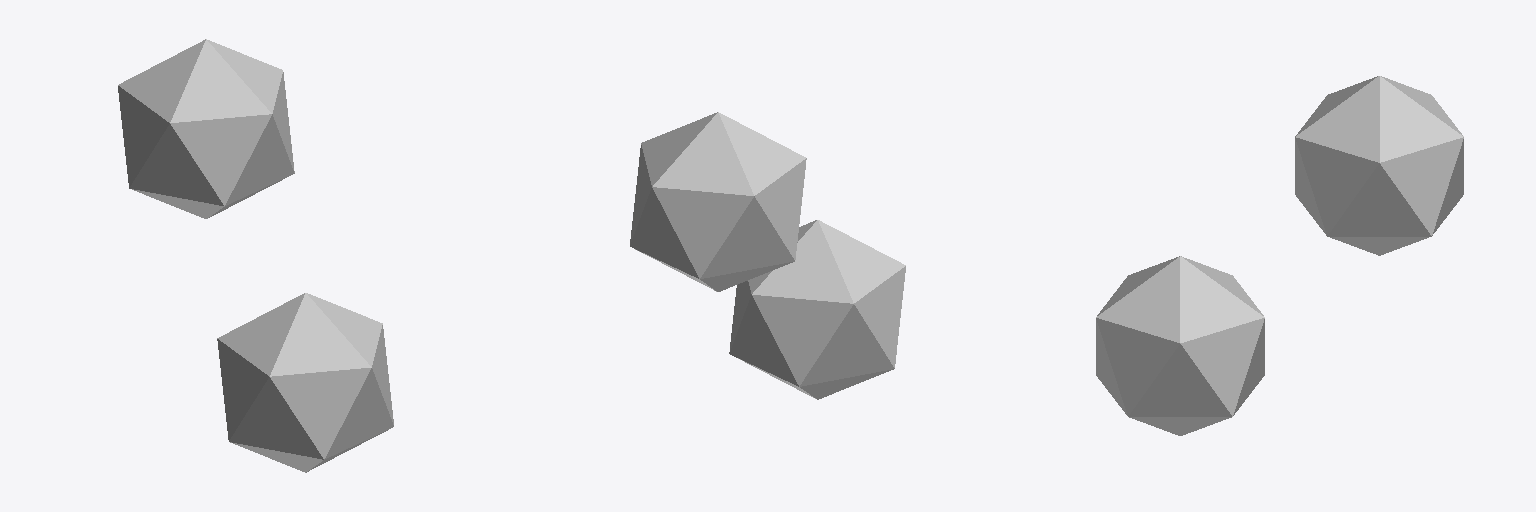
The model's file is simSphere[0.3,0,0] simSpher-0.3,0,0]_rotY90_Y+-0.3.obj.
3 renders of one model, left to right at view 1: azimuth 30°, elevation 25°; view 2: azimuth 150°, elevation 25°; view 3: azimuth 270°, elevation 25°, orthographic.
Visible parts, largest first — view 1: Icosphere, Icosphere.001; view 2: Icosphere.001, Icosphere; view 3: Icosphere, Icosphere.001.
Part boxes in pixels (x1,y1,x2,y2): Icosphere: (217,293,393,472); Icosphere.001: (118,39,294,218); Icosphere.001: (630,112,806,291); Icosphere: (729,220,905,399); Icosphere: (1096,256,1264,435); Icosphere.001: (1295,76,1463,255).
Bounding box in the file's own units: 0.5367 × 1.2 × 1.11.